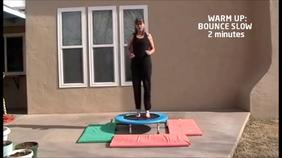walk: (128, 9, 156, 113)
